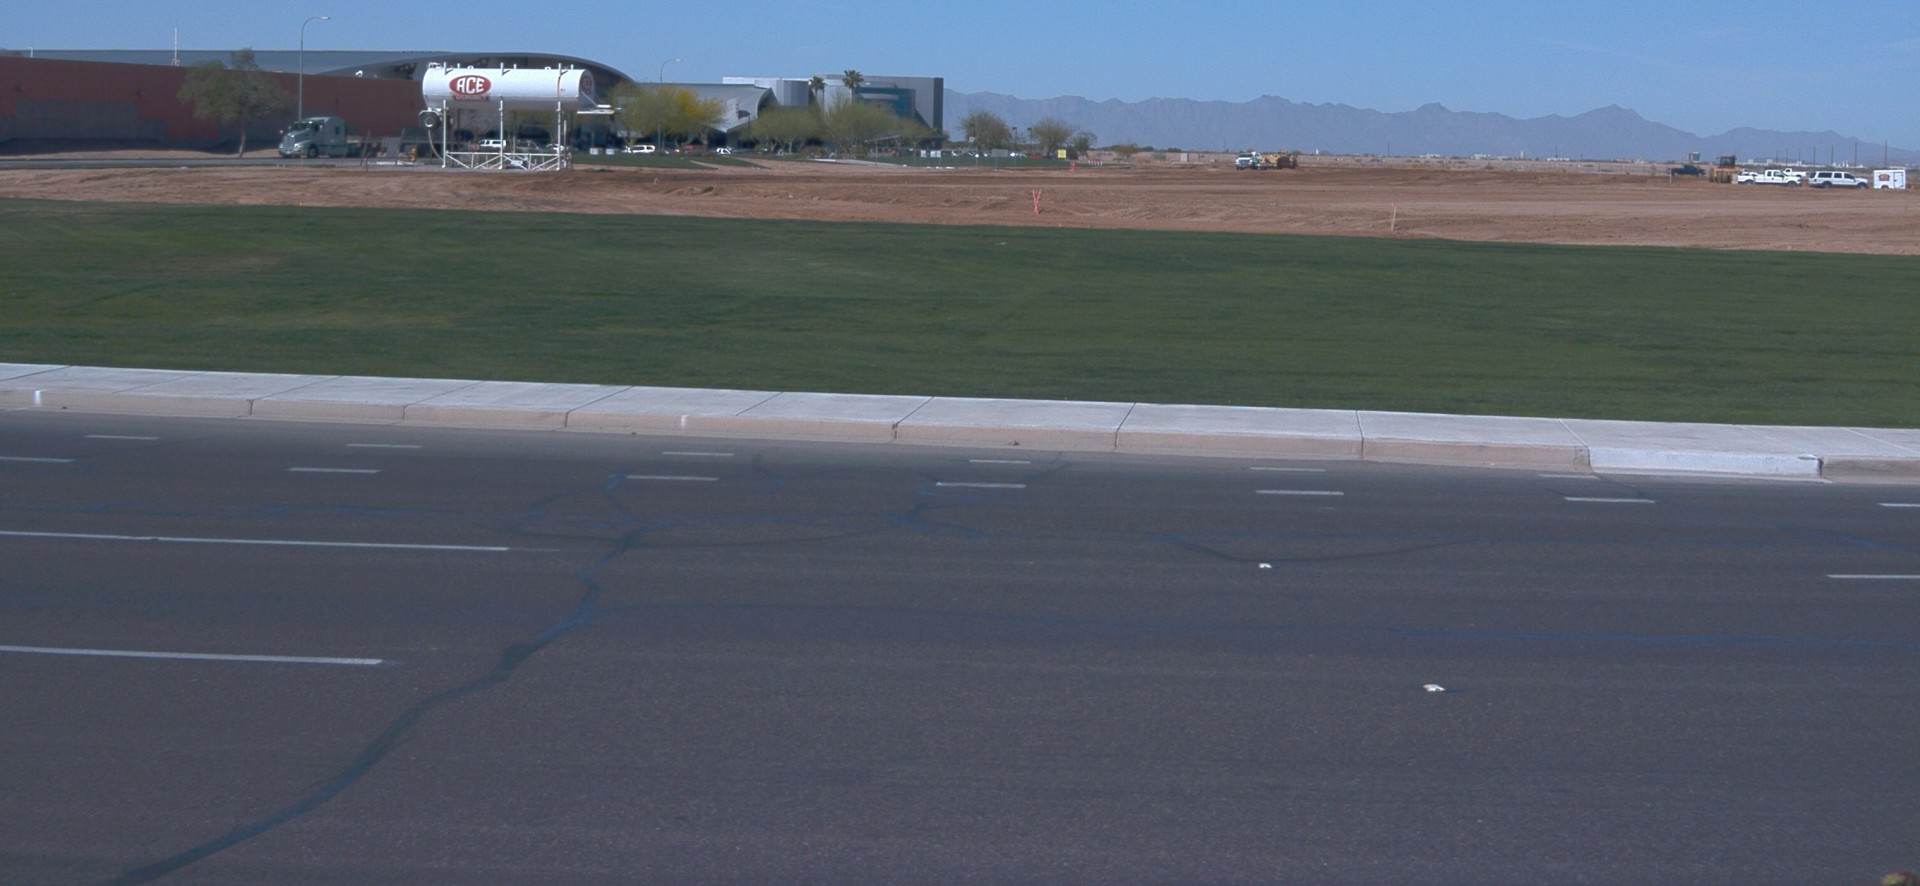TYPE_VEHICLE: (280, 110, 461, 159), (1738, 168, 1804, 188), (1808, 171, 1871, 191), (1707, 156, 1748, 185), (1253, 150, 1300, 171), (1870, 170, 1909, 191), (1666, 164, 1708, 178), (1234, 152, 1257, 172), (512, 140, 549, 151), (475, 138, 506, 149), (626, 143, 655, 154), (1786, 169, 1808, 179), (546, 140, 563, 150), (1738, 171, 1756, 177), (717, 149, 731, 154)
